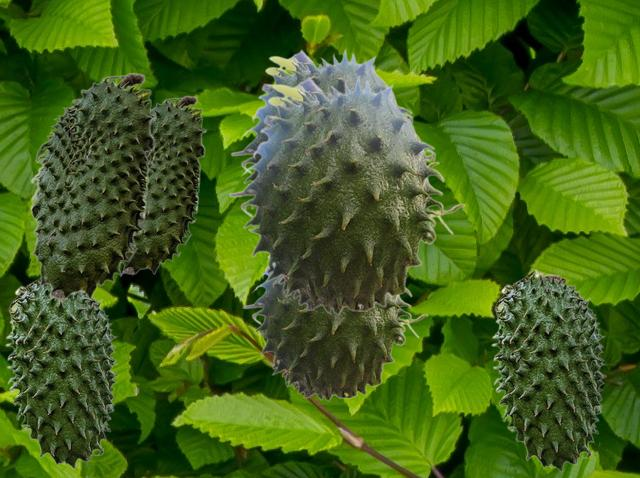guyabano: (228, 74, 465, 315), (230, 47, 439, 210), (29, 72, 155, 299), (242, 255, 428, 401), (491, 268, 606, 471), (5, 277, 118, 468), (122, 95, 205, 274)
